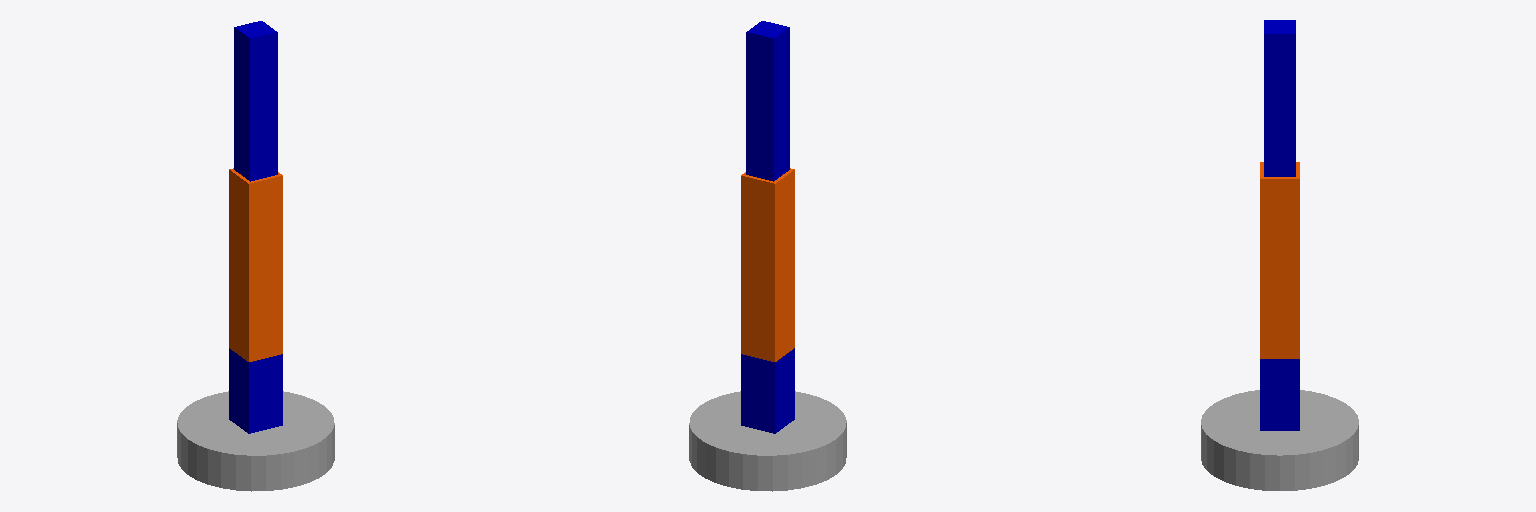
URDF robot description (simple_arm):
<?xml version="1.0"?>
<robot name="simple_arm">
  <!-- Material Definitions -->
  <material name="blue">
    <color rgba="0 0 0.8 1"/>
  </material>
  <material name="gray">
    <color rgba="0.7 0.7 0.7 1"/>
  </material>
  <material name="orange">
    <color rgba="1.0 0.4235 0.0392 1"/>
  </material>

  <!-- Base Link -->
  <link name="base_link">
    <visual>
      <geometry>
        <cylinder length="0.1" radius="0.2"/>
      </geometry>
      <material name="gray"/>
    </visual>
  </link>

  <!-- Shoulder Link -->
  <link name="shoulder_link">
    <visual>
      <geometry>
        <box size="0.1 0.1 0.2"/>
      </geometry>
      <origin rpy="0 0 0" xyz="0 0 0.1"/>
      <material name="blue"/>
    </visual>
  </link>

  <!-- Joint 0: Base to Shoulder (Rotates around Z axis - Left/Right) -->
  <joint name="joint0" type="revolute">
    <parent link="base_link"/>
    <child link="shoulder_link"/>
    <origin xyz="0 0 0.05" rpy="0 0 0"/>
    <axis xyz="0 0 1"/>
    <limit lower="-1.57" upper="1.57" effort="10" velocity="3"/>
  </joint>

  <!-- Arm Link -->
  <link name="arm_link">
    <visual>
      <geometry>
        <box size="0.1 0.1 0.5"/>
      </geometry>
      <origin rpy="0 0 0" xyz="0 0 0.25"/>
      <material name="orange"/>
    </visual>
  </link>

  <!-- Joint 1: Shoulder to Arm (Rotates around Y axis - Up/Down) -->
  <joint name="joint1" type="revolute">
    <parent link="shoulder_link"/>
    <child link="arm_link"/>
    <origin xyz="0 0 0.2" rpy="0 0 0"/>
    <axis xyz="0 1 0"/>
    <limit lower="-1.57" upper="1.57" effort="10" velocity="3"/>
  </joint>

  <!-- Forearm Link -->
  <link name="forearm_link">
    <visual>
      <geometry>
        <box size="0.08 0.08 0.4"/>
      </geometry>
      <origin rpy="0 0 0" xyz="0 0 0.2"/>
      <material name="blue"/>
    </visual>
  </link>

  <!-- Joint 2: Arm to Forearm (Rotates around Y axis - Up/Down) -->
  <joint name="joint2" type="revolute">
    <parent link="arm_link"/>
    <child link="forearm_link"/>
    <origin xyz="0 0 0.5" rpy="0 0 0"/>
    <axis xyz="0 1 0"/>
    <limit lower="-1.57" upper="1.57" effort="10" velocity="3"/>
  </joint>

</robot>

--- Render facts (derived) ---
Views: 3 orthographic renders of the robot side by side, from view 1: azimuth 30°, elevation 25°; view 2: azimuth 150°, elevation 25°; view 3: azimuth 270°, elevation 25°.
Robot: simple_arm — 4 links, 3 joints (3 revolute); root link base_link; default pose: all joints at 0.
Visible links, largest first — view 1: base_link, arm_link, forearm_link, shoulder_link; view 2: base_link, arm_link, forearm_link, shoulder_link; view 3: base_link, arm_link, forearm_link, shoulder_link.
Link boxes in pixels (<box>): base_link: <box>177,391,334,491</box>; arm_link: <box>229,168,282,361</box>; forearm_link: <box>234,21,277,181</box>; shoulder_link: <box>229,348,282,433</box>; base_link: <box>689,391,846,491</box>; arm_link: <box>741,168,794,361</box>; forearm_link: <box>746,21,789,181</box>; shoulder_link: <box>741,348,794,433</box>; base_link: <box>1201,390,1358,490</box>; arm_link: <box>1260,162,1299,358</box>; forearm_link: <box>1264,20,1295,176</box>; shoulder_link: <box>1260,359,1299,430</box>.
Bounding box of the posed robot: 0.4 × 0.4 × 1.2 m (x, y, z).
Geometry: primitives only (box / cylinder / sphere), no mesh files.
